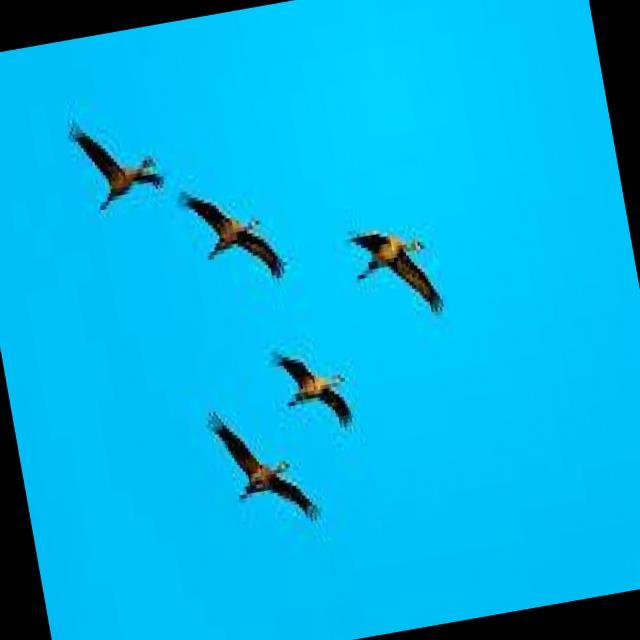bird: (200, 392, 325, 542), (331, 201, 452, 338), (173, 171, 292, 298), (57, 99, 175, 221), (258, 324, 358, 442)
